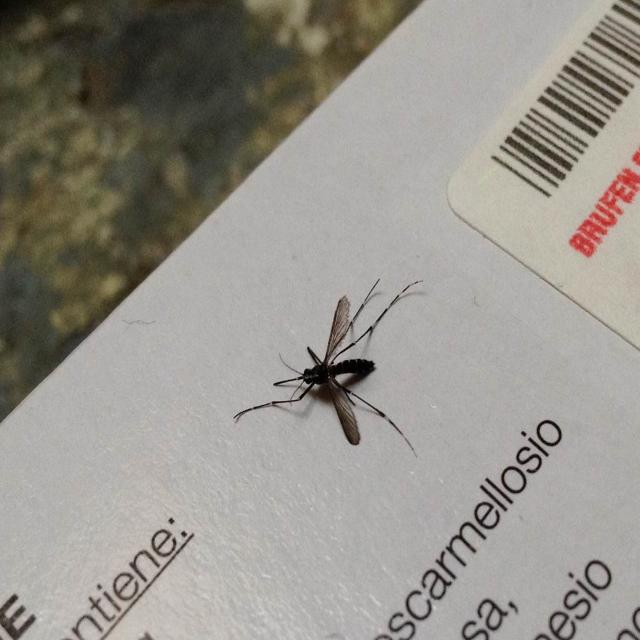albopictus: (238, 260, 427, 468)
